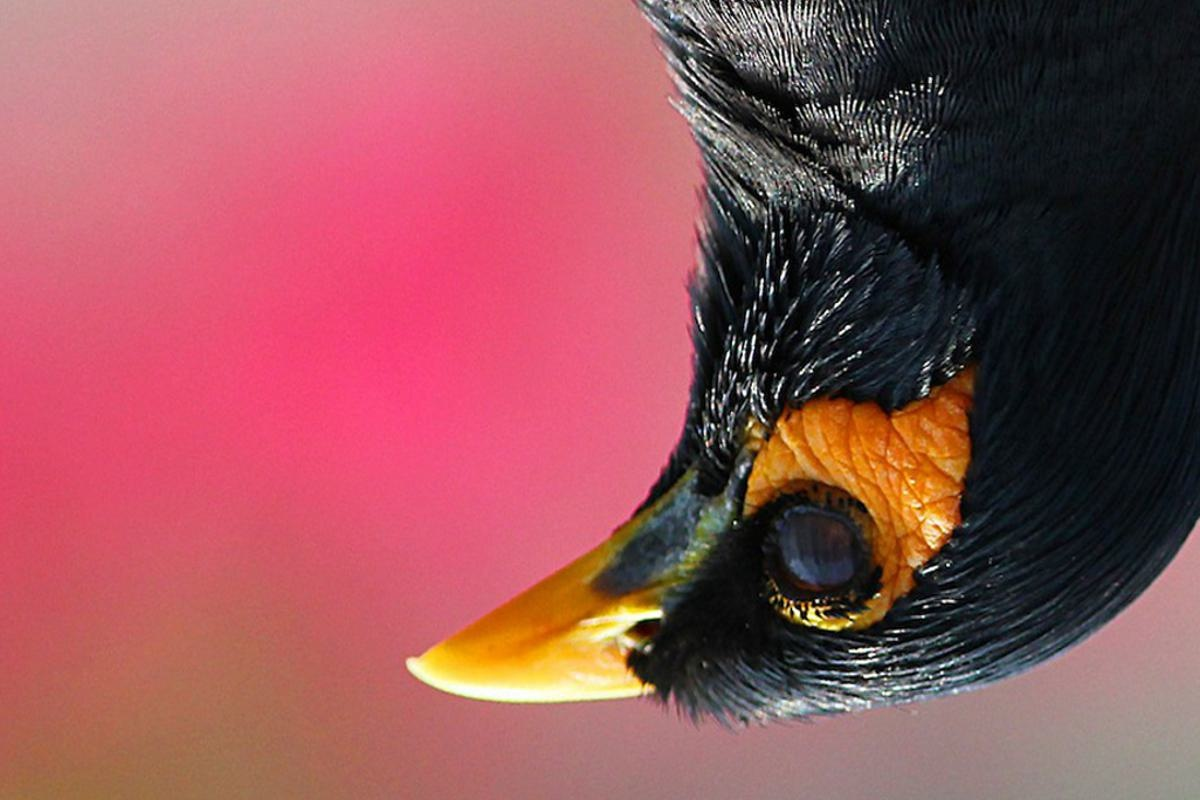myna: (400, 1, 1195, 744)
